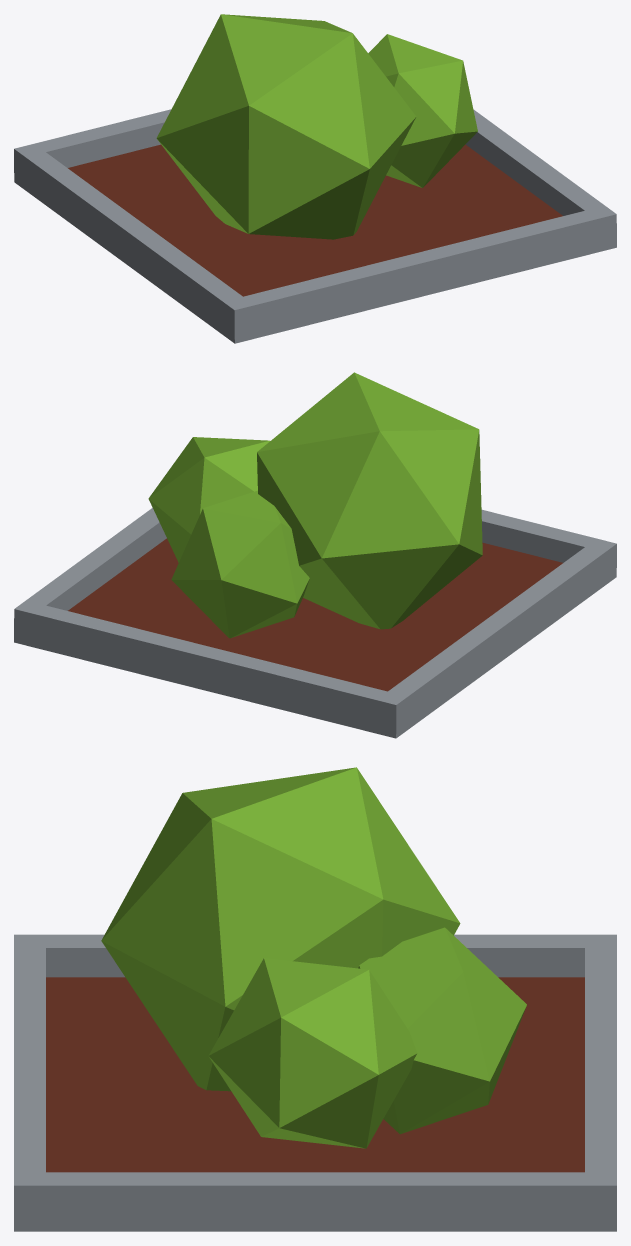
File: clumba.fbx
3 views of the same model, one above another, from view 1: azimuth 30°, elevation 25°; view 2: azimuth 150°, elevation 25°; view 3: azimuth 270°, elevation 25° (orthographic). The views are drawn at different scales.
Parts seen in each view (by area): view 1: Icosphere.007; view 2: Icosphere.007; view 3: Icosphere.007.
Boxes of the visible parts, bbox=[...] form: Icosphere.007: bbox=[14, 14, 616, 343]; Icosphere.007: bbox=[14, 372, 616, 738]; Icosphere.007: bbox=[14, 767, 616, 1231].
Size of the model in its own units: 28.14 by 14.86 by 28.13.
